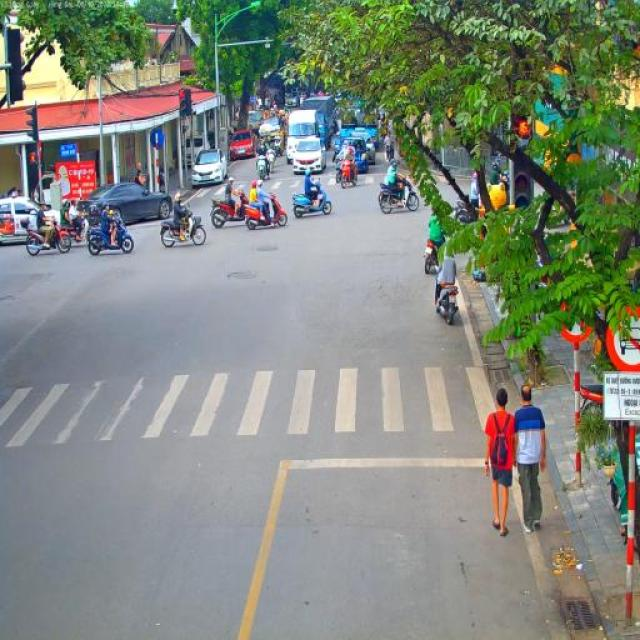car: (73, 182, 174, 227), (0, 197, 66, 244), (192, 148, 228, 187), (292, 135, 327, 175), (334, 136, 370, 174), (228, 130, 257, 160), (354, 131, 376, 165), (258, 117, 282, 144), (284, 91, 300, 108)
motorcycle: (87, 213, 134, 256), (27, 214, 72, 258), (159, 210, 207, 248), (378, 172, 420, 214), (208, 189, 251, 229), (244, 191, 288, 230), (290, 181, 332, 219), (55, 212, 91, 248), (423, 231, 448, 275), (435, 284, 459, 326), (452, 196, 480, 224), (572, 383, 603, 408), (341, 158, 358, 190), (486, 172, 510, 192), (256, 155, 270, 179), (334, 152, 344, 184), (266, 150, 276, 174), (384, 139, 394, 160), (274, 136, 282, 156)
truck: (286, 109, 326, 161), (336, 106, 379, 144), (300, 95, 338, 137), (240, 110, 262, 138)
